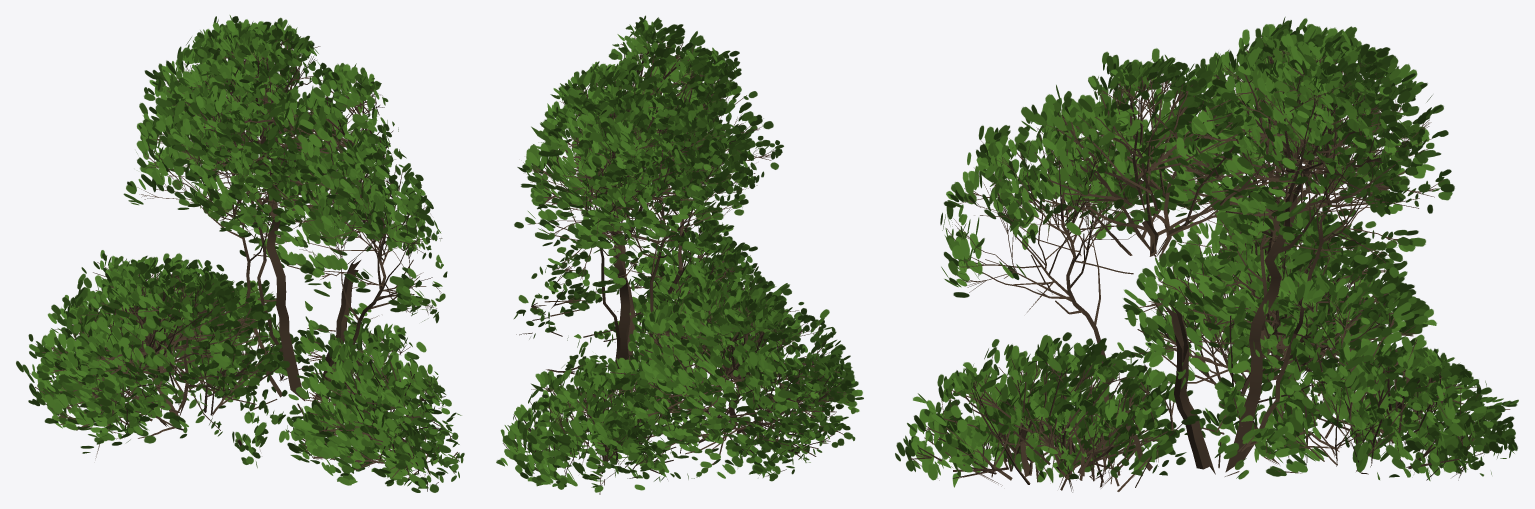
3 renders of one model, left to right at view 1: azimuth 30°, elevation 25°; view 2: azimuth 150°, elevation 25°; view 3: azimuth 270°, elevation 25°, orthographic. The views are drawn at different scales.
Visible parts, largest first — view 1: oak 01.001_trunk_Mat.001_0.313; view 2: oak 01.001_trunk_Mat.001_0.313; view 3: oak 01.001_trunk_Mat.001_0.313.
Boxes of the visible parts, x1=… form: oak 01.001_trunk_Mat.001_0.313: x1=16, y1=15, x2=464, y2=492; oak 01.001_trunk_Mat.001_0.313: x1=496, y1=15, x2=863, y2=494; oak 01.001_trunk_Mat.001_0.313: x1=895, y1=16, x2=1518, y2=492.
Bounding box in the file's own units: 3.54 × 4.34 × 5.46.
Materials: 2 (1 with a texture image).
